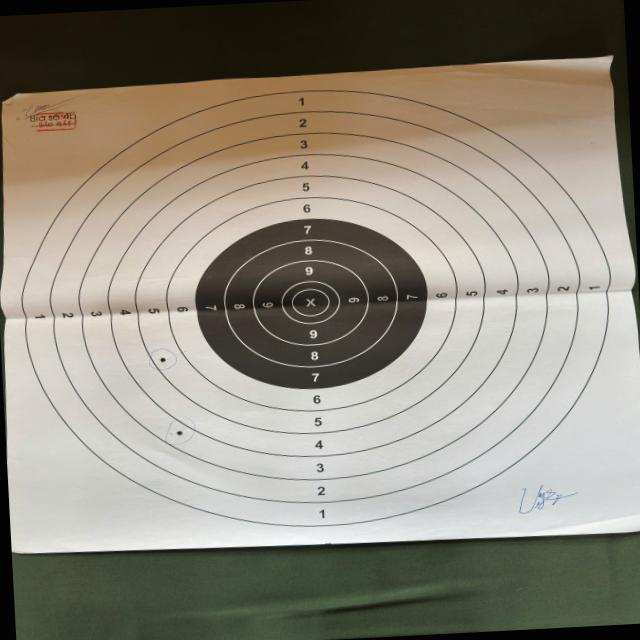bullet: (159, 357, 166, 362), (178, 431, 181, 435)
target: (1, 57, 640, 554)
